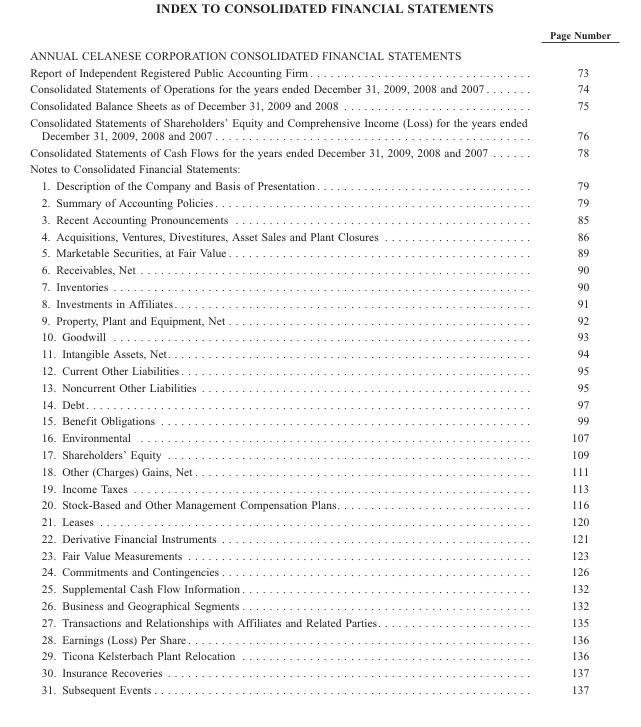table: (29, 28, 610, 695)
table column: (29, 28, 537, 695), (537, 28, 610, 695)
table column header: (29, 28, 610, 44)
table projected row header: (29, 44, 610, 63), (29, 160, 610, 176)
table row: (29, 113, 610, 143), (29, 44, 610, 63), (29, 63, 610, 80), (29, 96, 610, 113), (29, 143, 610, 160), (29, 176, 610, 193), (29, 193, 610, 210), (29, 210, 610, 227), (29, 227, 610, 244), (29, 260, 610, 277), (29, 277, 610, 294), (29, 294, 610, 311), (29, 311, 610, 328), (29, 344, 610, 361), (29, 361, 610, 378), (29, 378, 610, 395), (29, 395, 610, 412), (29, 428, 610, 445), (29, 445, 610, 462), (29, 462, 610, 479), (29, 479, 610, 496), (29, 512, 610, 529), (29, 529, 610, 546), (29, 546, 610, 563), (29, 563, 610, 580), (29, 596, 610, 613), (29, 613, 610, 630), (29, 630, 610, 647), (29, 647, 610, 664), (29, 28, 610, 44), (29, 80, 610, 96), (29, 160, 610, 176), (29, 244, 610, 260), (29, 328, 610, 344), (29, 412, 610, 428), (29, 496, 610, 512), (29, 580, 610, 596), (29, 664, 610, 680), (29, 680, 610, 695)
